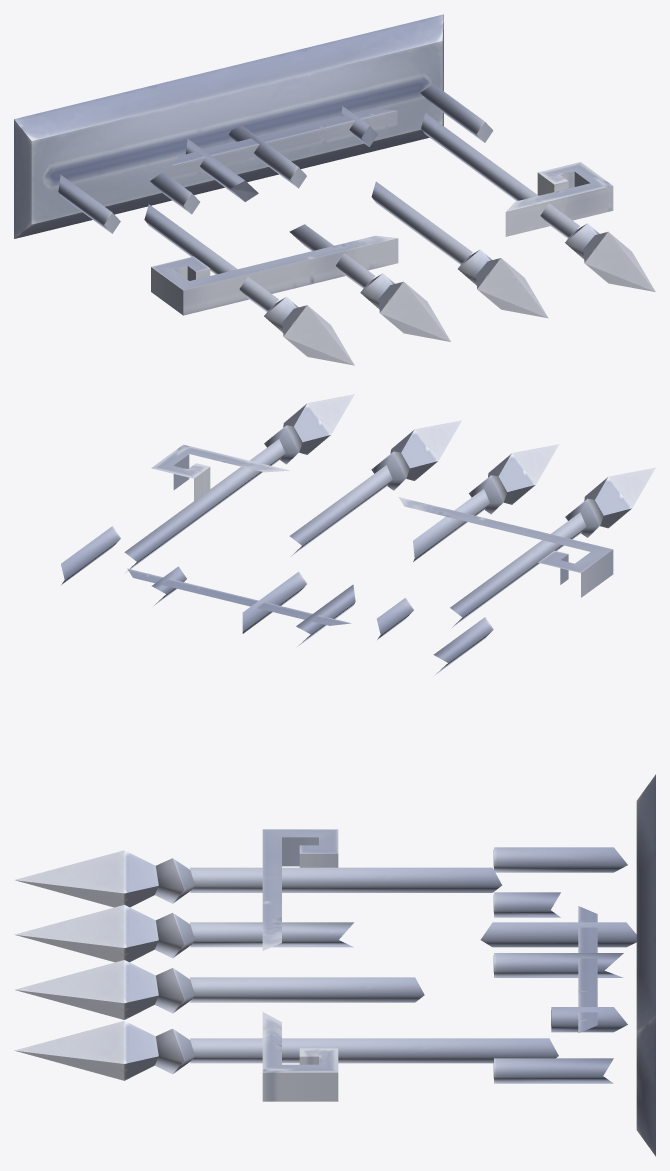
The picture shows the model from 3 angles, top to bottom: view 1: azimuth 30°, elevation 25°; view 2: azimuth 150°, elevation 25°; view 3: azimuth 270°, elevation 25°; orthographic projection. The views are drawn at different scales.
Parts seen in each view (by area): view 1: whitespace.model_x3-MeshNodes["mesh_door"], whitespace.model_x3-MeshNodes["mesh_frame"]; view 2: whitespace.model_x3-MeshNodes["mesh_door"]; view 3: whitespace.model_x3-MeshNodes["mesh_door"], whitespace.model_x3-MeshNodes["mesh_frame"].
Part boxes in pixels (<box>): whitespace.model_x3-MeshNodes["mesh_door"]: <box>58,84,655,365</box>; whitespace.model_x3-MeshNodes["mesh_frame"]: <box>14,14,443,238</box>; whitespace.model_x3-MeshNodes["mesh_door"]: <box>61,394,655,675</box>; whitespace.model_x3-MeshNodes["mesh_door"]: <box>14,829,636,1101</box>; whitespace.model_x3-MeshNodes["mesh_frame"]: <box>636,774,655,1156</box>.
Bounding box in the file's own units: 3 × 0.8 × 3.34.
Materials: 1 (1 with a texture image).
